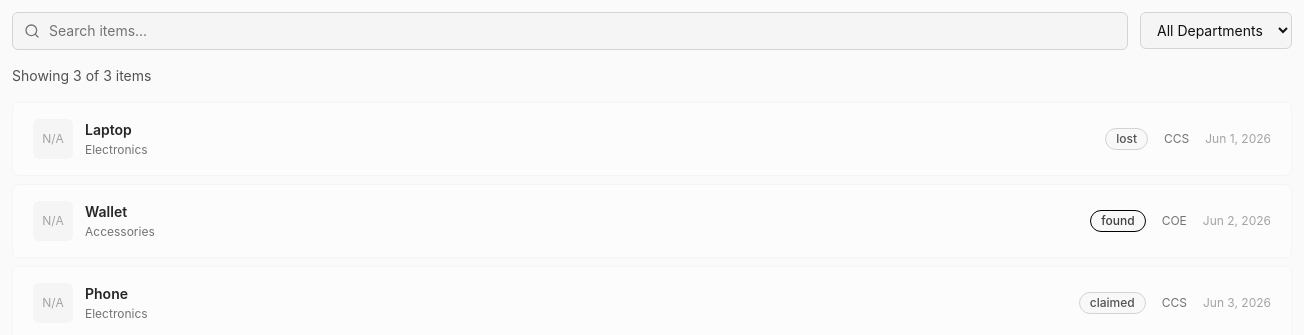
GlobalLedger › search functionality › filters items by name (case-insensitive)
This screenshot has width=1304, height=335.
In the field with placeholder "Search items...": (570,31) [12, 12, 1128, 50], type "laptop"
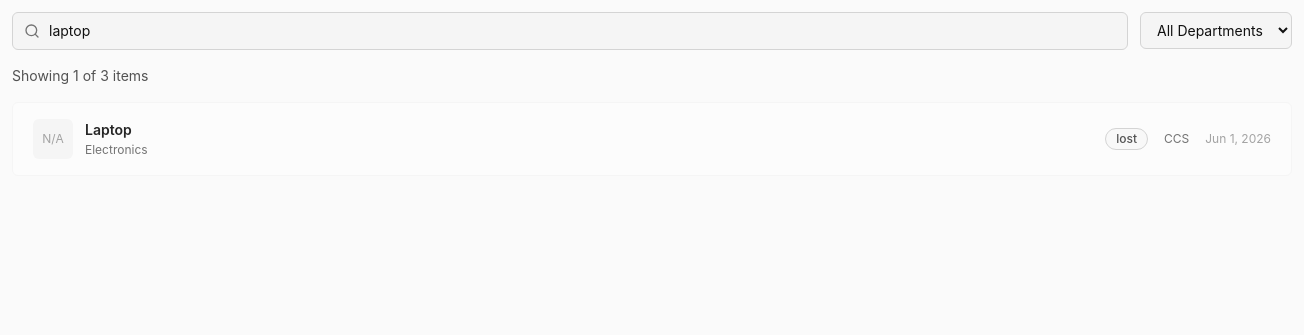
Expected: the text "Laptop" is shown, [85, 121, 132, 138]
Now the text "Wallet" is gone
Now the text "Phone" is gone
